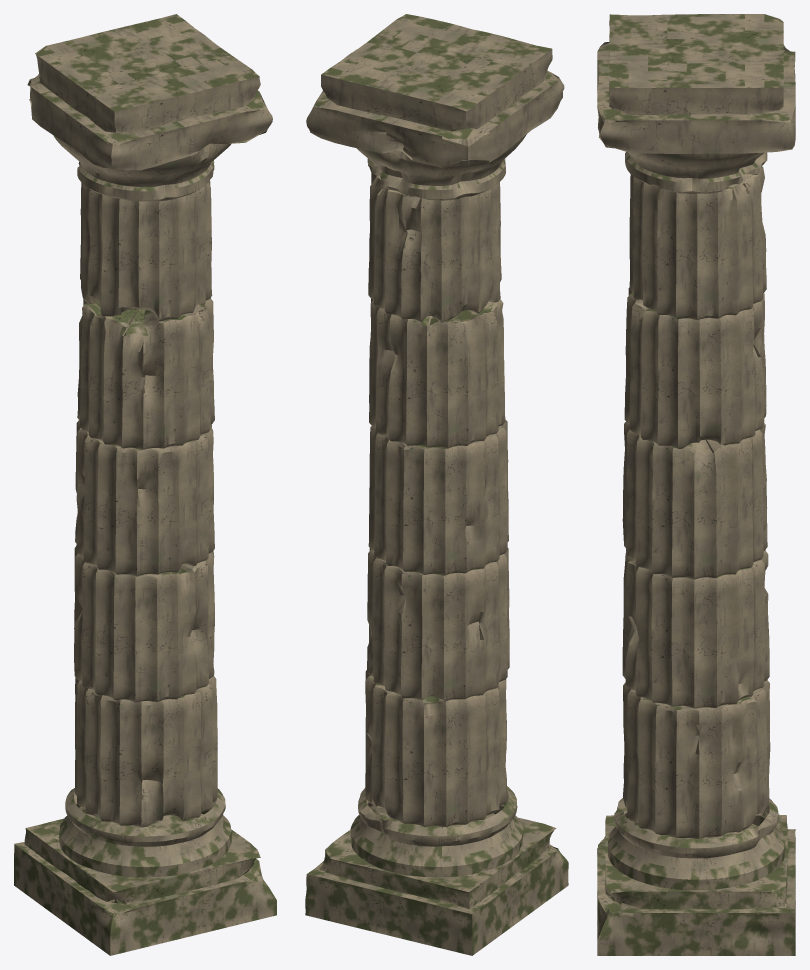
File: castle_pillar.glb
3 views of the same model, side by side, from view 1: azimuth 30°, elevation 25°; view 2: azimuth 150°, elevation 25°; view 3: azimuth 270°, elevation 25° (orthographic). The views are drawn at different scales.
Visible parts, largest first — view 1: castle_pillar; view 2: castle_pillar; view 3: castle_pillar.
Boxes of the visible parts, left/top/right/bottom form: castle_pillar: left=14, top=14, right=276, bottom=955; castle_pillar: left=305, top=14, right=568, bottom=955; castle_pillar: left=597, top=14, right=795, bottom=955.
Size of the model in its own units: 2.5 by 12 by 2.5.
2 materials, 2 textured.
